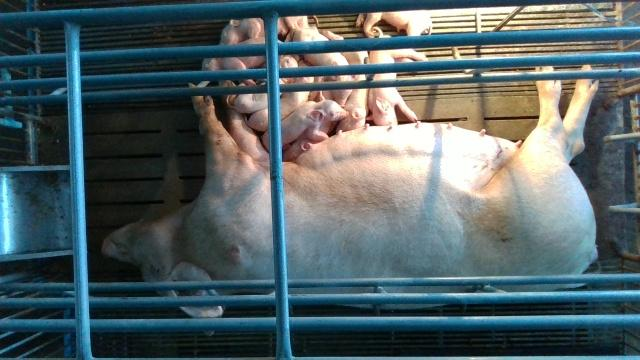piglet: (366, 26, 429, 126), (288, 26, 358, 107), (260, 91, 350, 152), (321, 30, 368, 134), (226, 55, 298, 113), (244, 76, 314, 132), (201, 35, 285, 71), (219, 15, 308, 43), (356, 10, 432, 38)
sow-sleep-lactate: (102, 65, 600, 335)
